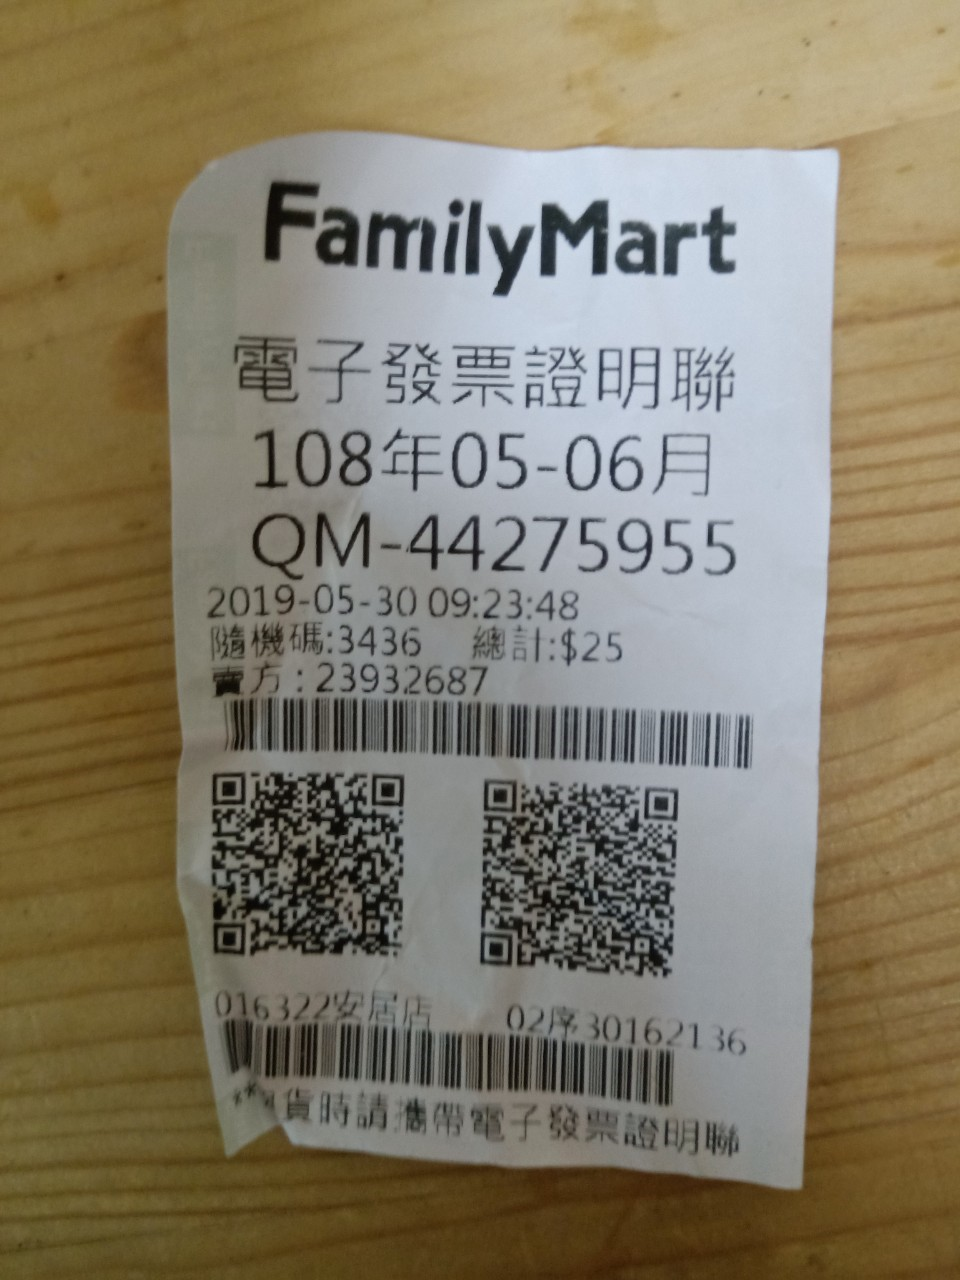Date_New: (250, 421, 713, 502)
Number_New: (406, 512, 738, 578)
